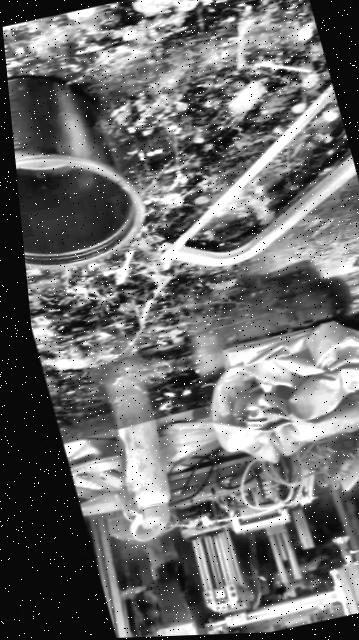pot: (6, 58, 153, 278)
